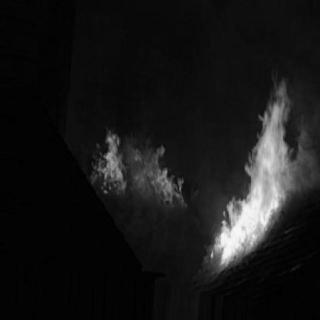Fire: (204, 71, 306, 273), (92, 126, 192, 214)
